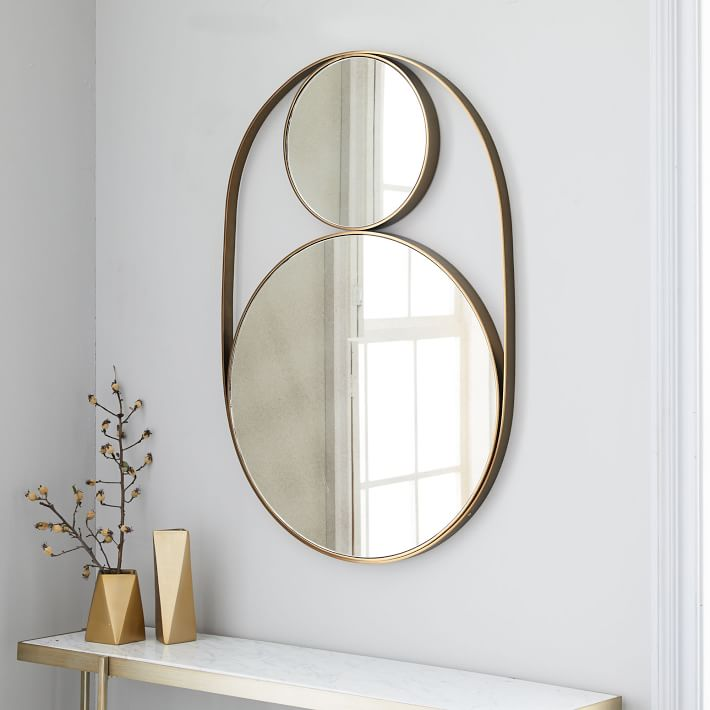Nonrec_Glass: (211, 38, 540, 592)
